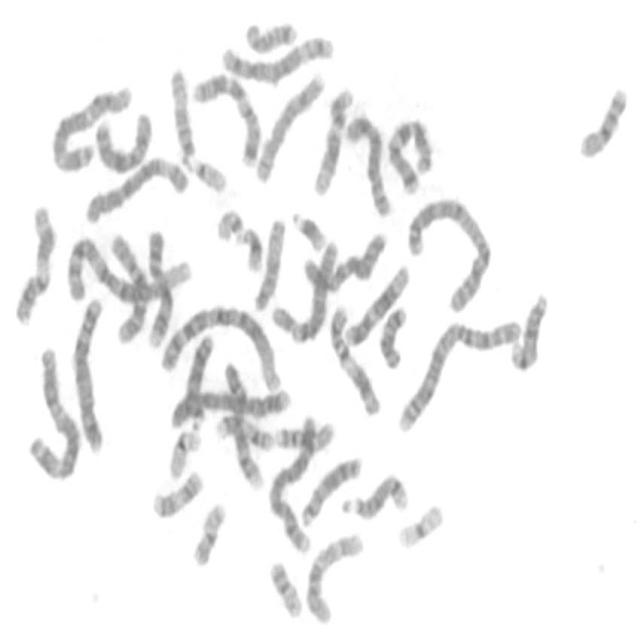A1: (158, 297, 283, 393), (62, 230, 196, 306)
A2: (394, 310, 526, 435), (404, 189, 496, 315)
A3: (47, 77, 135, 175), (25, 339, 84, 482)
B4: (264, 408, 323, 554), (168, 380, 294, 430)
B5: (218, 27, 338, 85), (70, 289, 108, 455)
C10: (302, 524, 368, 627), (106, 224, 152, 346)
C11: (325, 296, 385, 418), (10, 196, 59, 327)
C12: (342, 256, 413, 348), (310, 79, 357, 197)
C6: (82, 150, 193, 226), (268, 233, 343, 344)
C7: (188, 64, 264, 168), (383, 111, 436, 197)
C8: (252, 65, 328, 184), (342, 107, 394, 219)
C9: (219, 355, 267, 491), (142, 222, 176, 351)
D13: (298, 448, 366, 528), (182, 326, 218, 430)
D14: (507, 285, 552, 372), (339, 467, 411, 521)
D15: (250, 211, 288, 313), (166, 60, 198, 164)
E16: (575, 78, 632, 160), (272, 413, 338, 452)
E17: (148, 463, 206, 521), (212, 409, 277, 454)
E18: (242, 13, 300, 55), (376, 299, 410, 370)
F19: (394, 496, 447, 551), (166, 422, 204, 481)
F20: (189, 495, 229, 568), (266, 554, 306, 620)
G21: (288, 204, 329, 254), (234, 220, 267, 274)
G22: (184, 149, 230, 194), (213, 202, 247, 244)
X: (300, 224, 390, 294), (91, 104, 155, 175)
